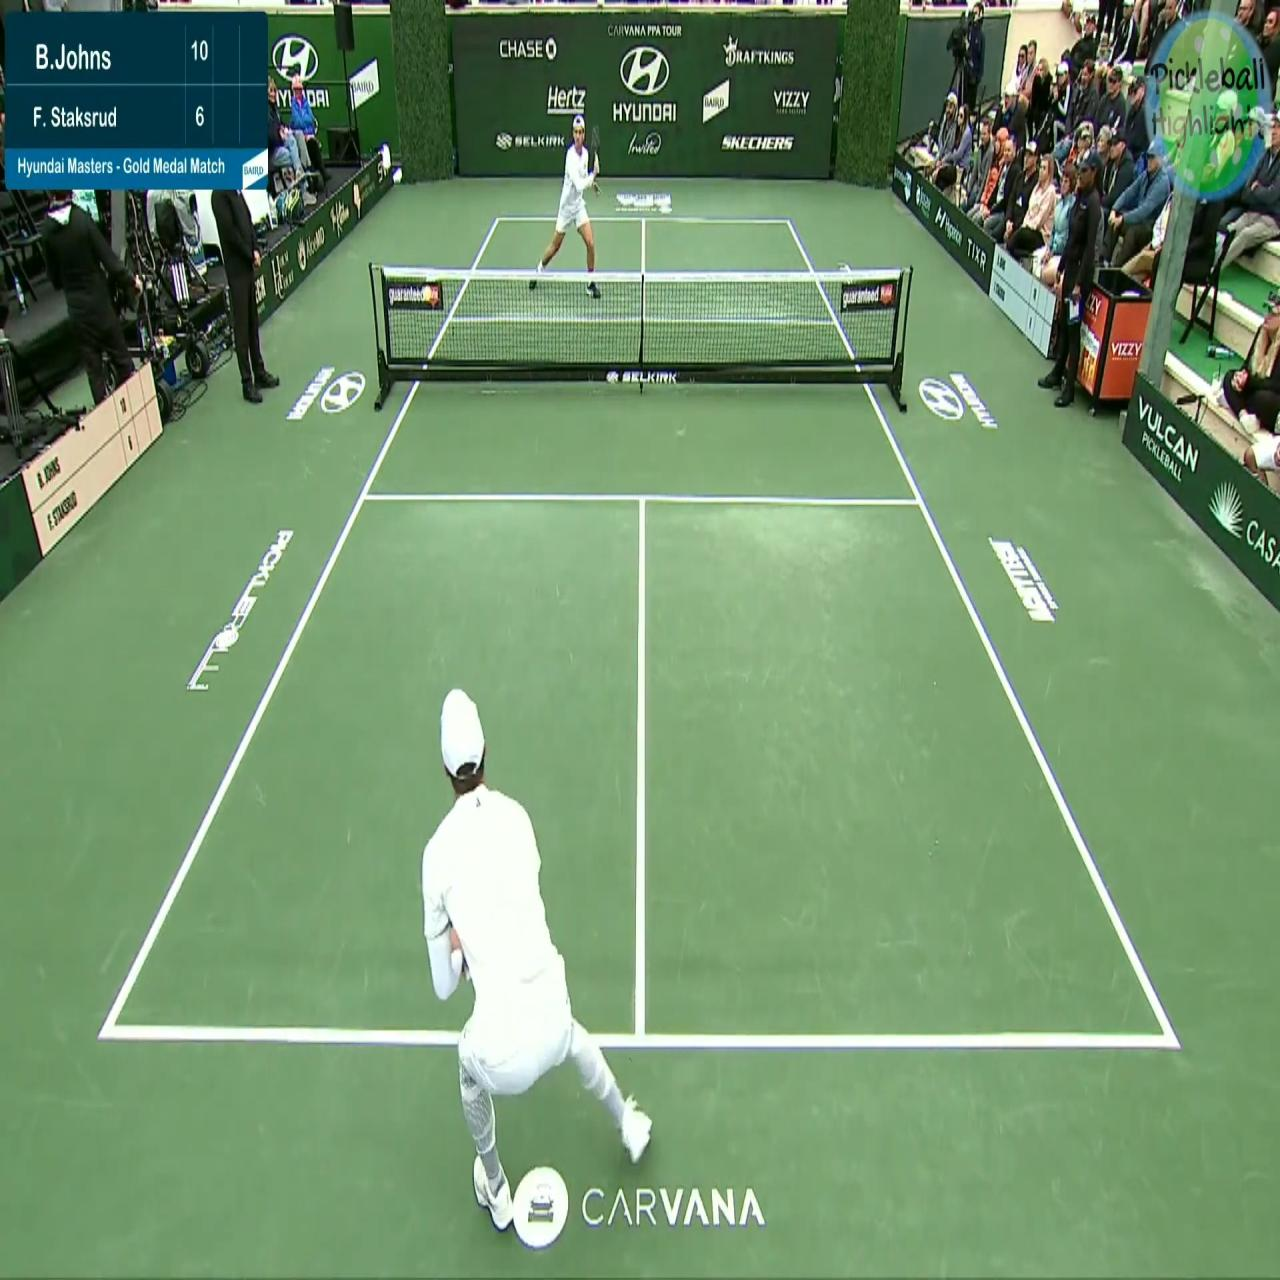pickleball: (423, 290, 431, 301)
